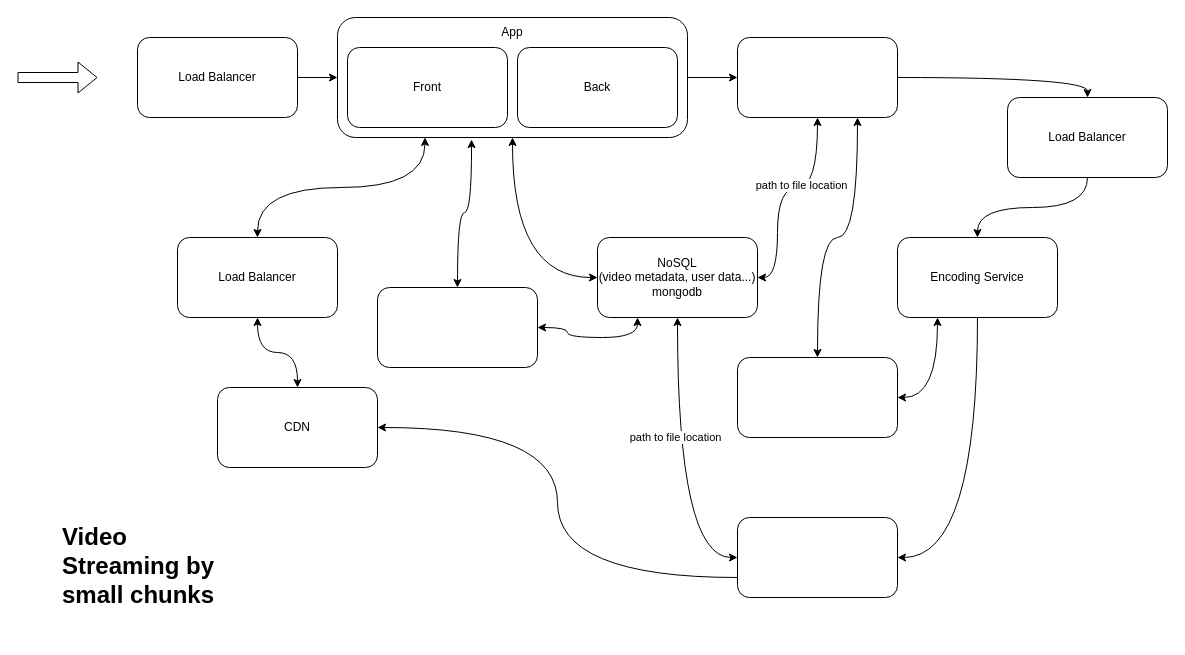
Image size: 1185x655. Some labels were removed from this diagram. Each missing label, with the box of its shape:
Cache LRU In Memory redis?: (376, 286, 538, 368)
Object Store (encoded videos, profile pictures, ...) Minio ?: (736, 516, 898, 598)
Object Store (Raw videos) Minio ?: (736, 36, 898, 118)
Queue (kafka): (736, 356, 898, 438)
